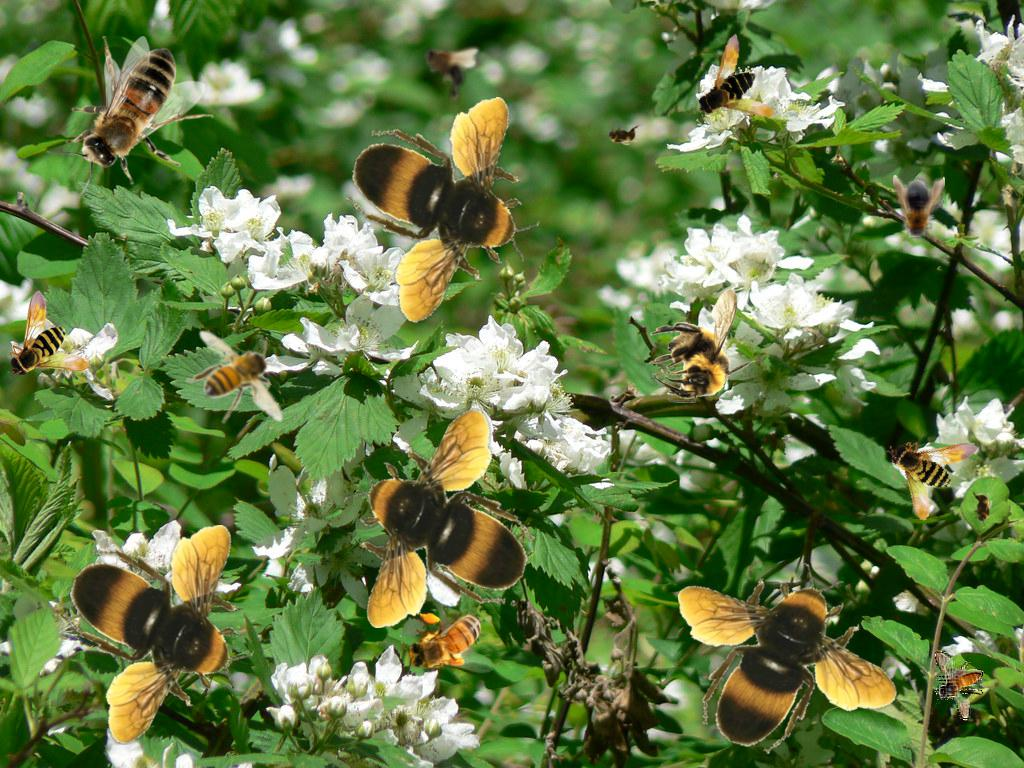Bee: (340, 95, 546, 328), (63, 525, 254, 745), (344, 408, 535, 628), (678, 563, 898, 754), (47, 36, 214, 198), (170, 315, 309, 445), (649, 288, 756, 403), (884, 417, 996, 525), (692, 27, 786, 127), (7, 290, 89, 378), (401, 609, 494, 677), (409, 29, 484, 107), (934, 650, 984, 721), (893, 175, 945, 243), (971, 488, 993, 528), (602, 124, 642, 146)
